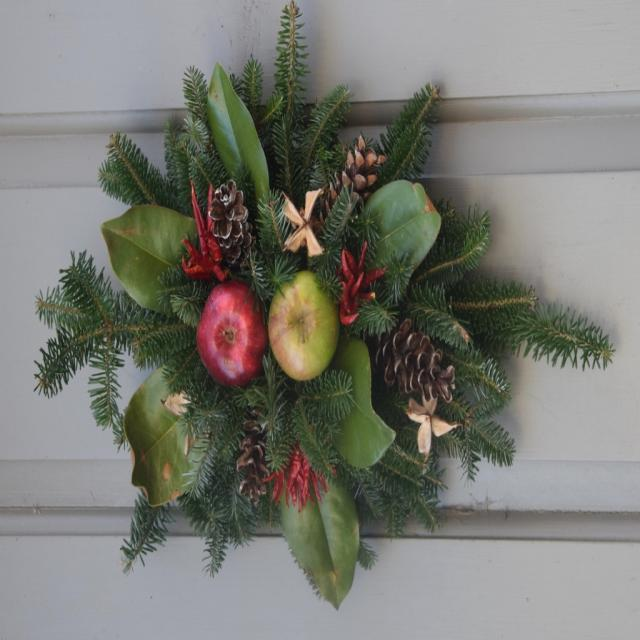Apple pie: (266, 271, 342, 383), (198, 278, 264, 402)
